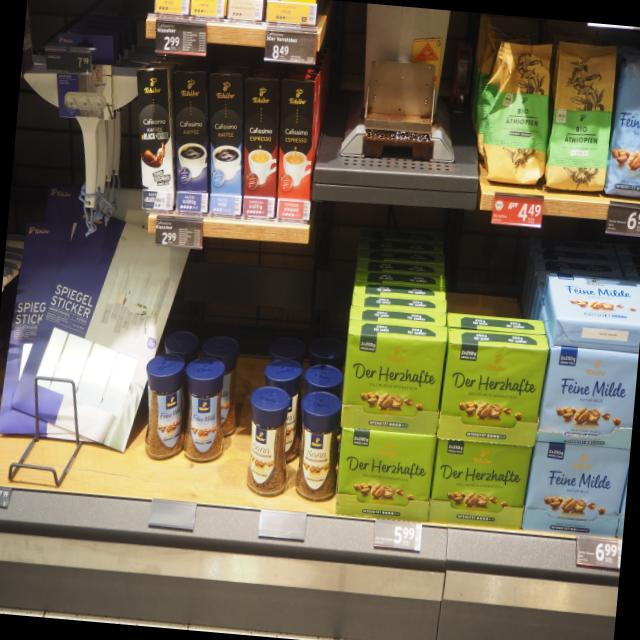Athiopien Bohne: (476, 35, 557, 189)
Athiopien Gemahlen: (541, 38, 619, 195)
Empty Shelf: (445, 255, 540, 319)
FM Bohne: (603, 42, 640, 200)
FM Gemahlen: (535, 345, 638, 450), (520, 441, 630, 539), (548, 271, 640, 326)
FM Instant: (136, 348, 192, 464), (175, 354, 232, 466)
Herzhatfe Mundig: (339, 318, 448, 436), (434, 339, 549, 447), (334, 425, 438, 523), (427, 438, 534, 530)
Simo Es Elegant: (276, 79, 315, 223)
Simo Es Kraft: (242, 76, 279, 219)
Simo Kaffee BW: (134, 67, 176, 208)
Simo Kaffee Kraft: (170, 70, 209, 212)
Simo Kaffee Mild: (207, 73, 243, 217)
